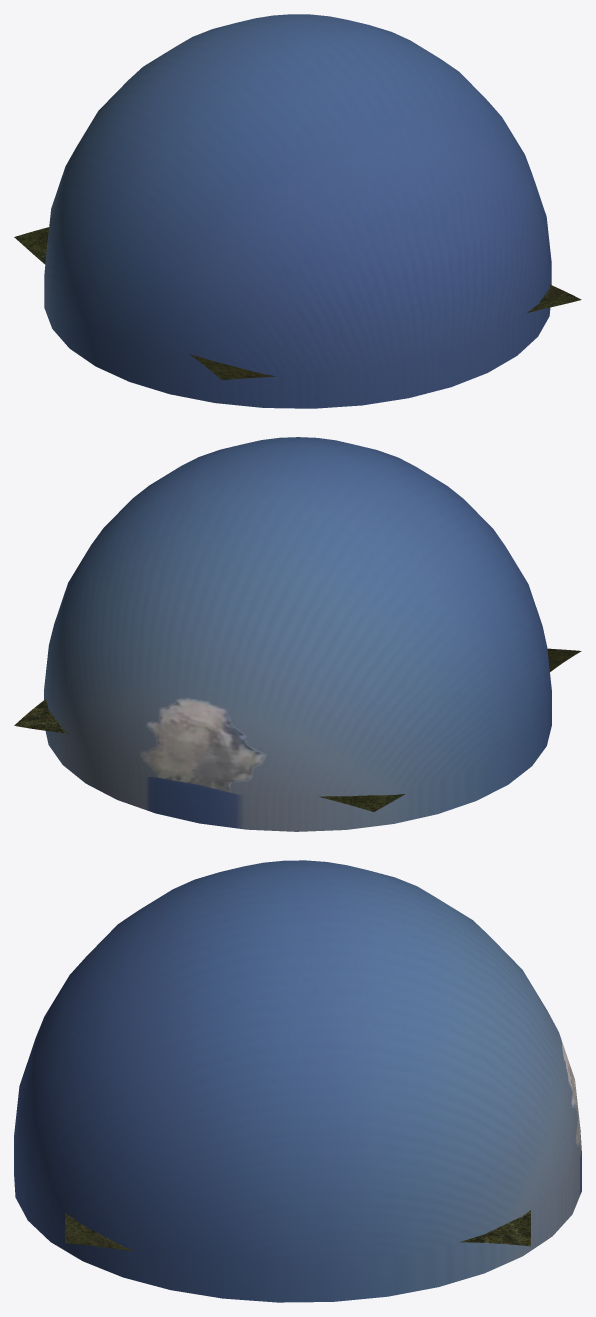
File: dreamcore.fbx
3 renders of one model, top to bottom at view 1: azimuth 30°, elevation 25°; view 2: azimuth 150°, elevation 25°; view 3: azimuth 270°, elevation 25°, orthographic. The views are drawn at different scales.
Parts seen in each view (by area): view 1: Sphere, Plane; view 2: Sphere, Plane; view 3: Sphere, Plane.
Boxes of the visible parts, x1=… form: Sphere: x1=44, y1=14, x2=551, y2=408; Plane: x1=14, y1=227, x2=581, y2=380; Sphere: x1=44, y1=437, x2=551, y2=831; Plane: x1=14, y1=648, x2=581, y2=811; Sphere: x1=14, y1=860, x2=581, y2=1302; Plane: x1=65, y1=1210, x2=530, y2=1251.
Size of the model in its own units: 4185 by 2405 by 4185.
